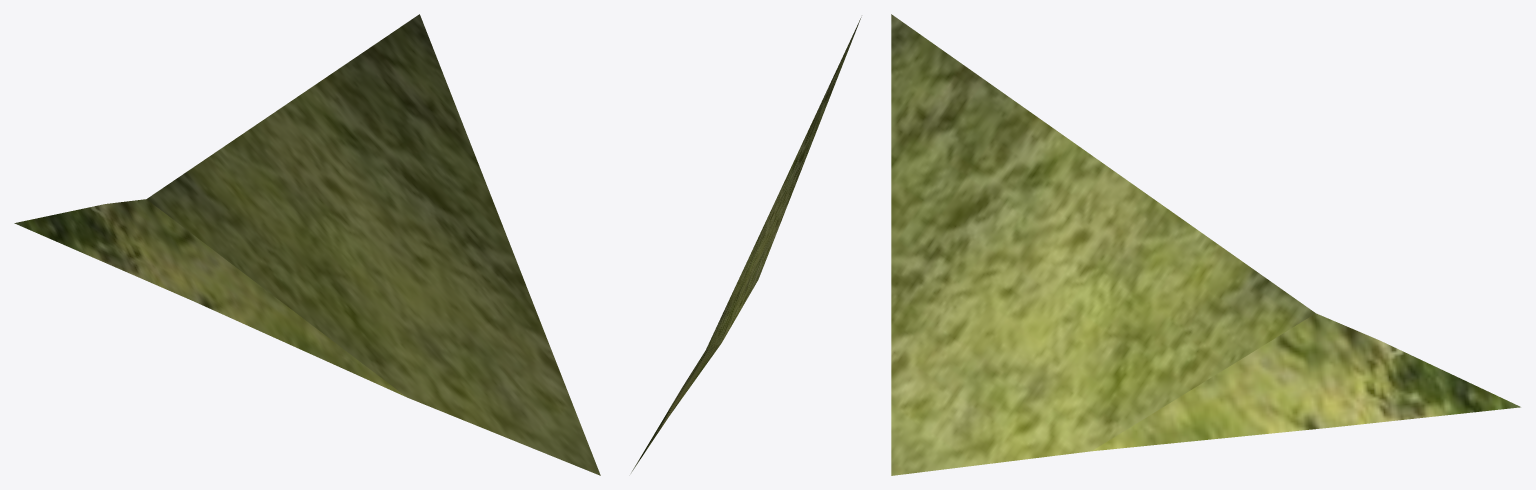
3 views of the same model, side by side, from view 1: azimuth 30°, elevation 25°; view 2: azimuth 150°, elevation 25°; view 3: azimuth 270°, elevation 25° (orthographic). The views are drawn at different scales.
Bounding box in the file's own units: 0.6352 × 1.7 × 2.46.
Materials: 1 (1 with a texture image).
